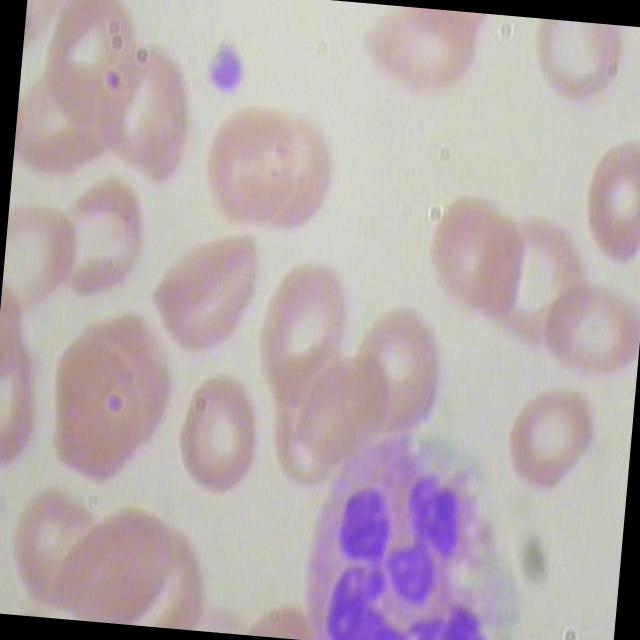Platelets: (195, 39, 247, 103)
RBC: (35, 328, 152, 492), (140, 221, 266, 369), (84, 42, 198, 196), (417, 180, 533, 331), (49, 499, 183, 628), (245, 261, 358, 412), (336, 300, 449, 450), (194, 98, 298, 248), (36, 172, 148, 311), (354, 4, 484, 110), (504, 374, 599, 508), (169, 367, 264, 500), (533, 274, 640, 384), (561, 134, 640, 267)
WBC: (296, 425, 534, 640)
